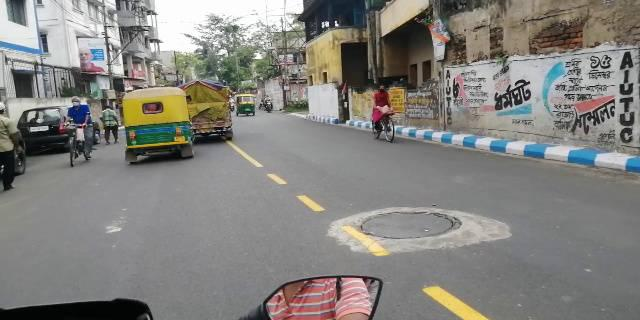Autorickshaw: (121, 86, 195, 162), (233, 91, 259, 118)
Car: (17, 104, 70, 151)
Cycle: (64, 94, 102, 169), (367, 84, 405, 146)
Minitruck: (187, 82, 241, 145)
